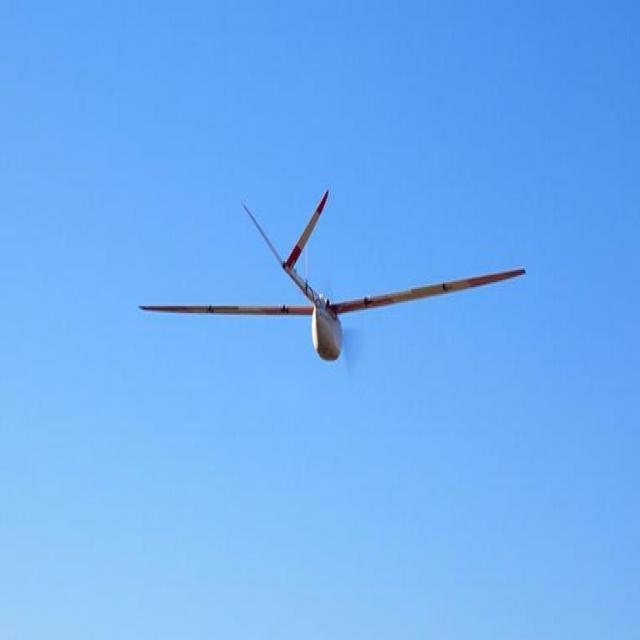UAV: (130, 180, 526, 387)
